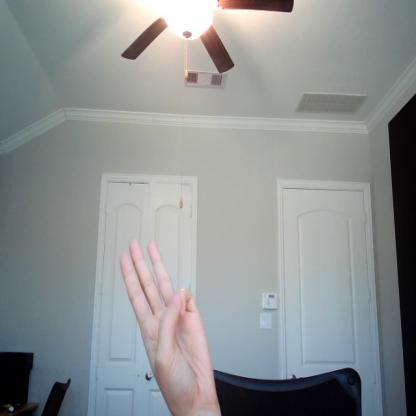six: (117, 238, 218, 415)
